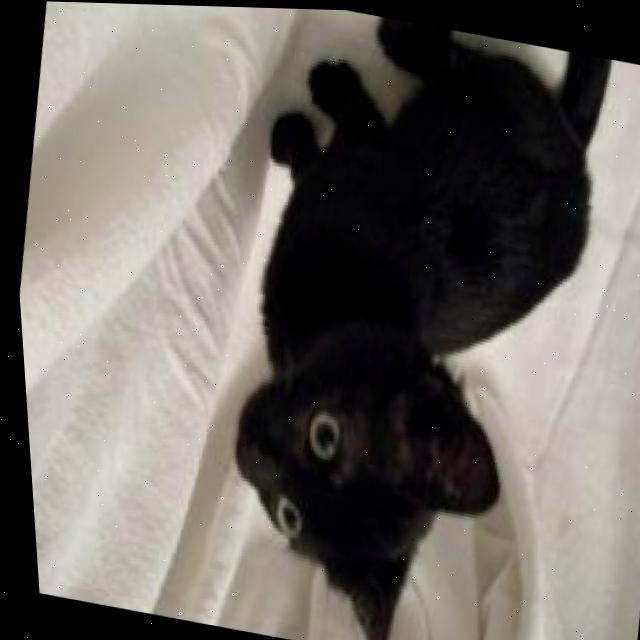Bombay: (171, 4, 640, 640)
